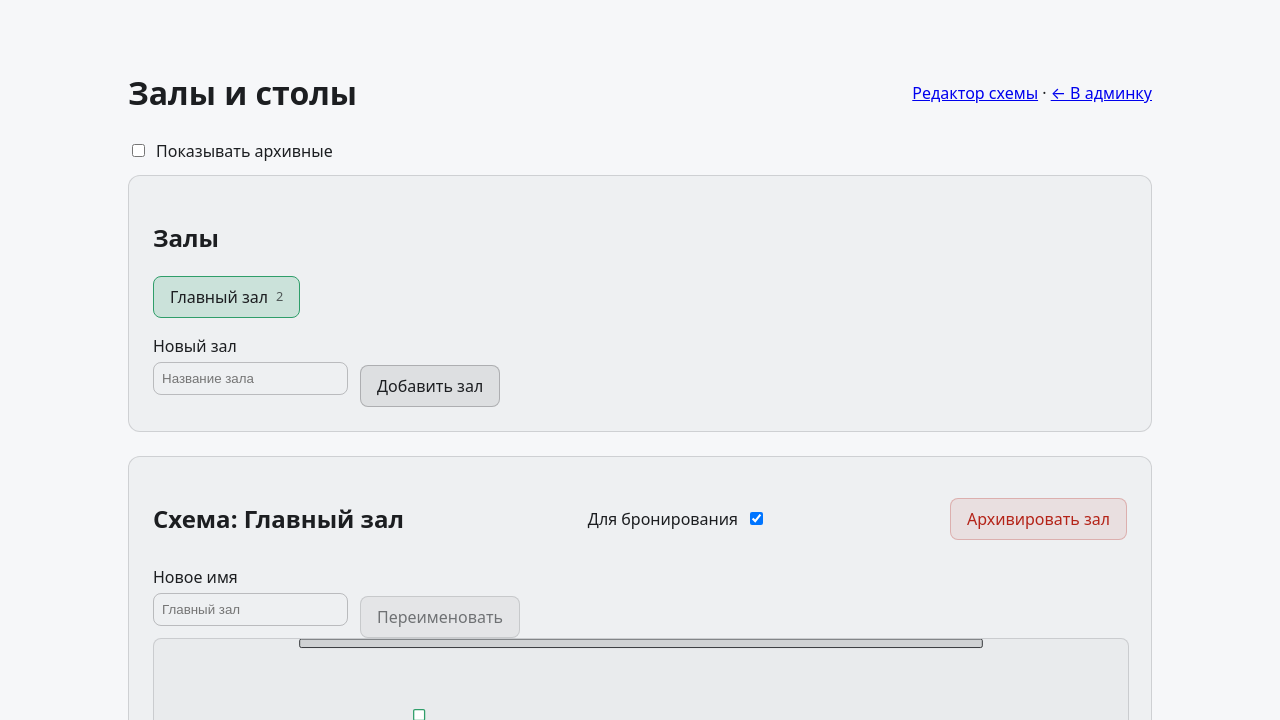
Test: HallsPage › shows a clear message when a hall cannot be archived
Click the button "Архивировать зал" at x=1038, y=519, box [950, 498, 1127, 540]
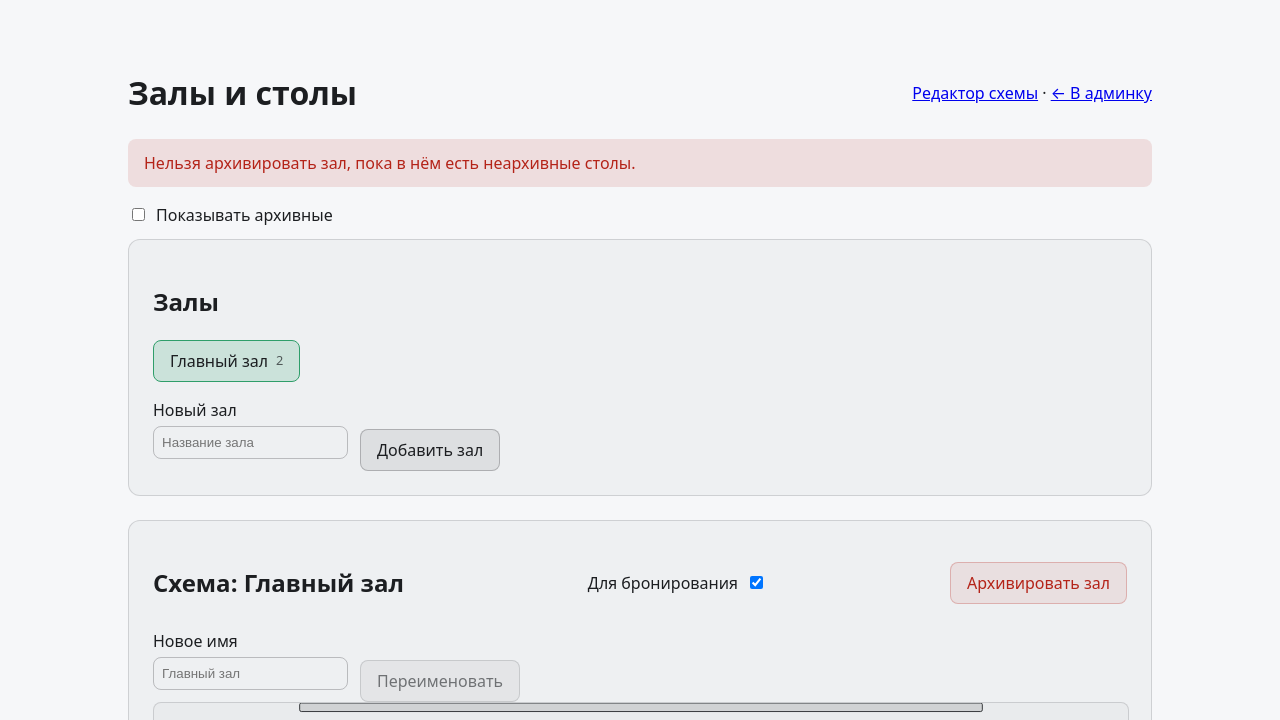
Expected: the message shows "неархивные столы", [144, 152, 636, 174]
